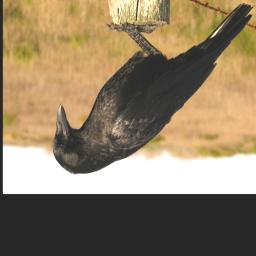Crow: (53, 2, 256, 175)
